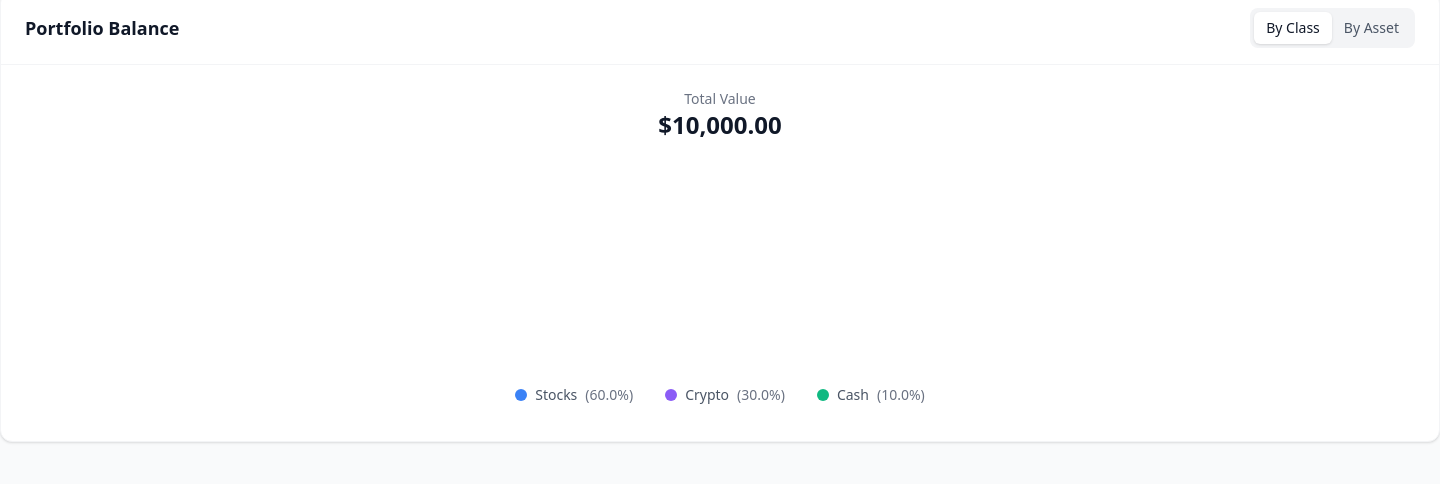
Test: DonutChart › shows clear selection hint when item is selected
Click the option "Stocks (60.0%)".
click(574, 395)  # box [507, 381, 641, 409]
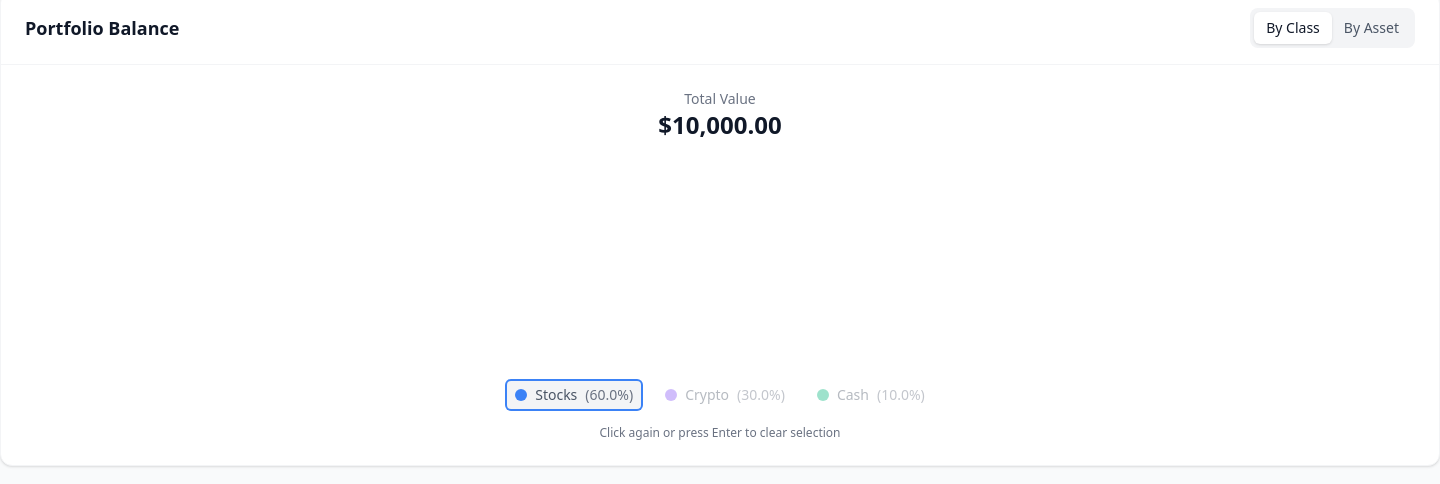
Check: the text "Click again or press Enter to clear selection" is shown, box [600, 424, 840, 441]
